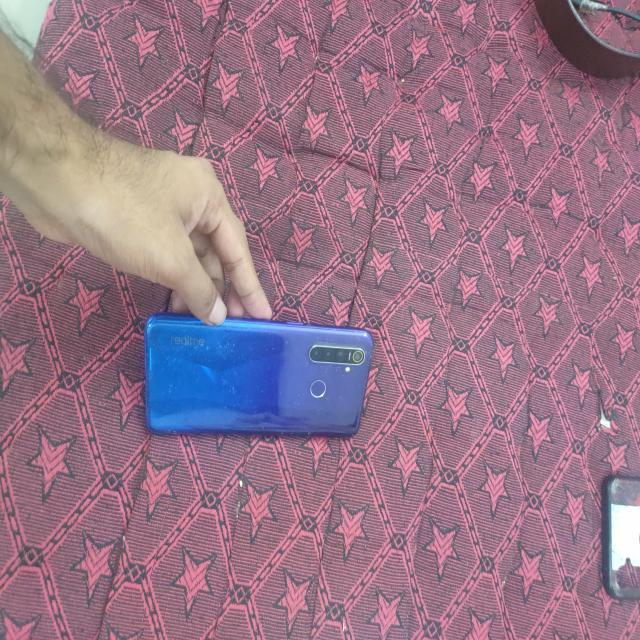Phone: (142, 316, 374, 439)
